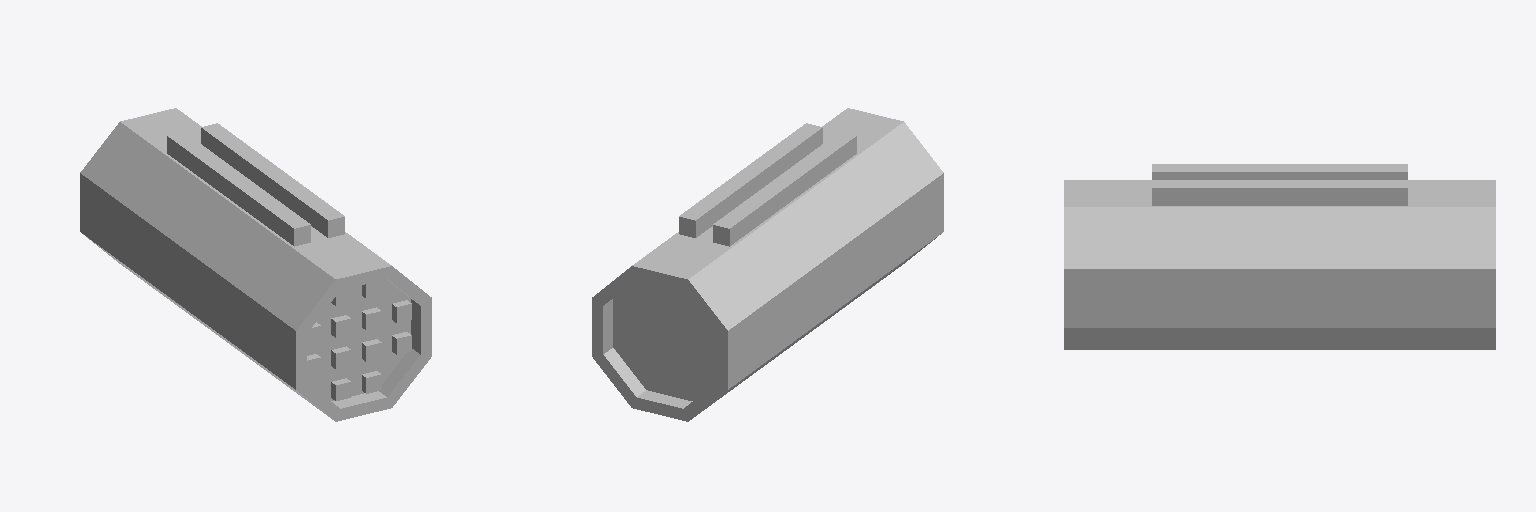
Rendered from gunrocketpod.obj.
3 renders of one model, left to right at view 1: azimuth 30°, elevation 25°; view 2: azimuth 150°, elevation 25°; view 3: azimuth 270°, elevation 25°, orthographic.
Visible parts, largest first — view 1: basic_ocp_rpod.001; view 2: basic_ocp_rpod.001; view 3: basic_ocp_rpod.001.
Part boxes in pixels (bbox=[...]): basic_ocp_rpod.001: bbox=[80, 108, 431, 421]; basic_ocp_rpod.001: bbox=[592, 108, 943, 421]; basic_ocp_rpod.001: bbox=[1064, 164, 1495, 349].
Size of the model in its own units: 0.5 by 0.5625 by 1.38.